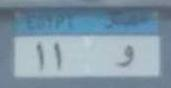1: (34, 42, 48, 74), (53, 40, 64, 73)
waw: (113, 41, 136, 70)
